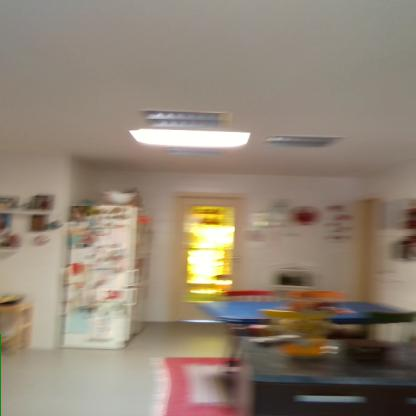closed: (158, 178, 250, 330)
